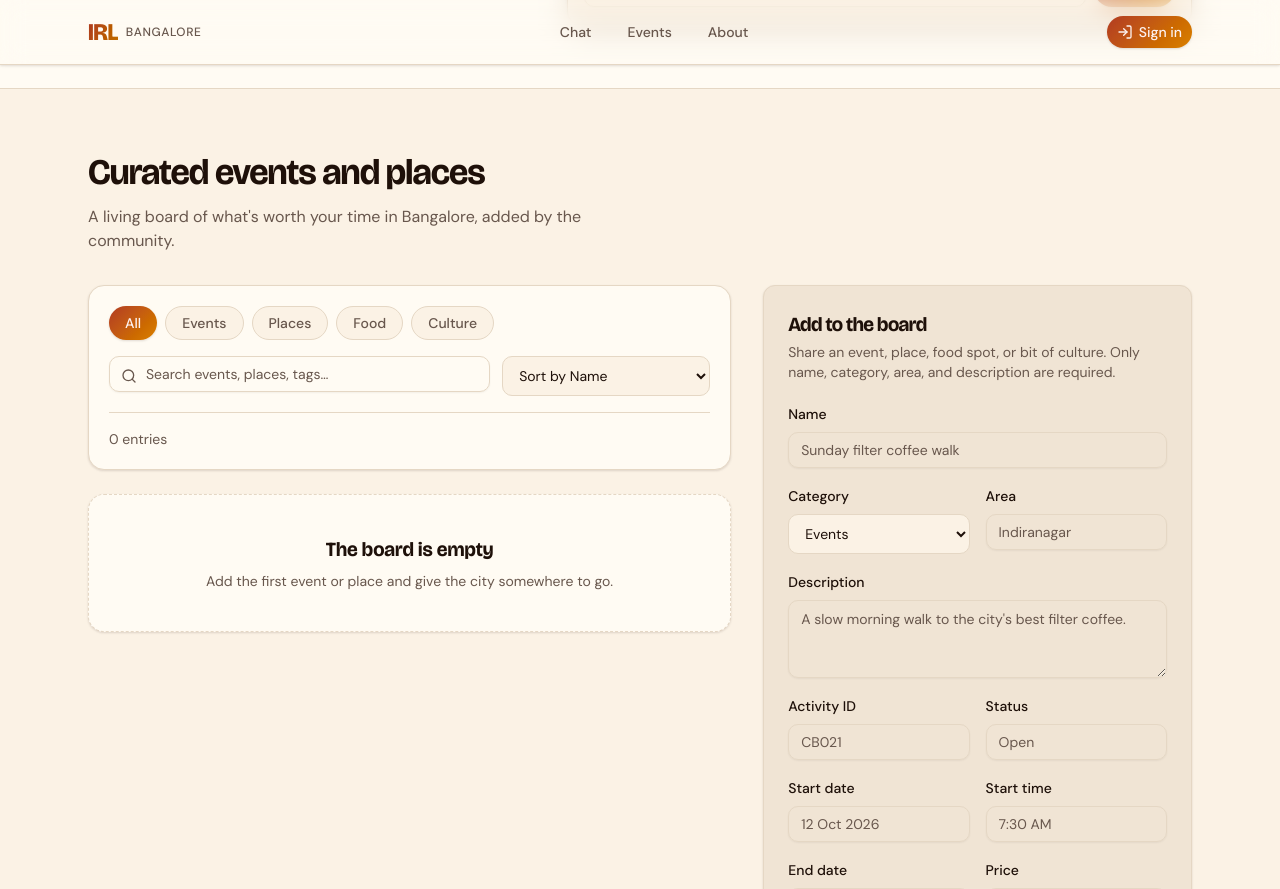
Test: IRL events board › keeps the submit button disabled until the required fields are filled
The image size is (1280, 889).
(page scrolled)
Type "Only a title" into the field labelled "Name" at [978, 450], box x1=788 y1=432 x2=1167 y2=468
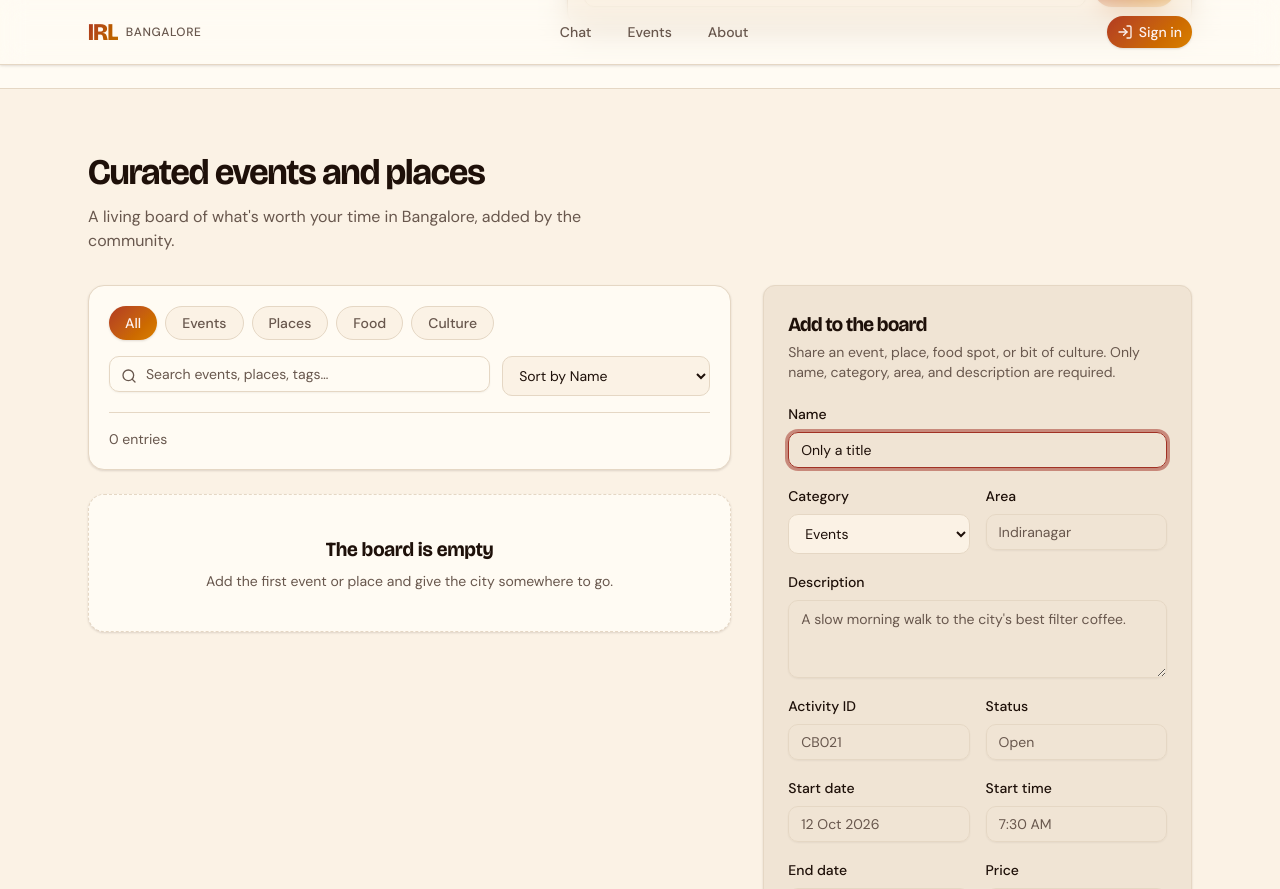
Type "Jayanagar" into the field labelled "Area" at [1076, 532], box x1=986 y1=514 x2=1167 y2=550
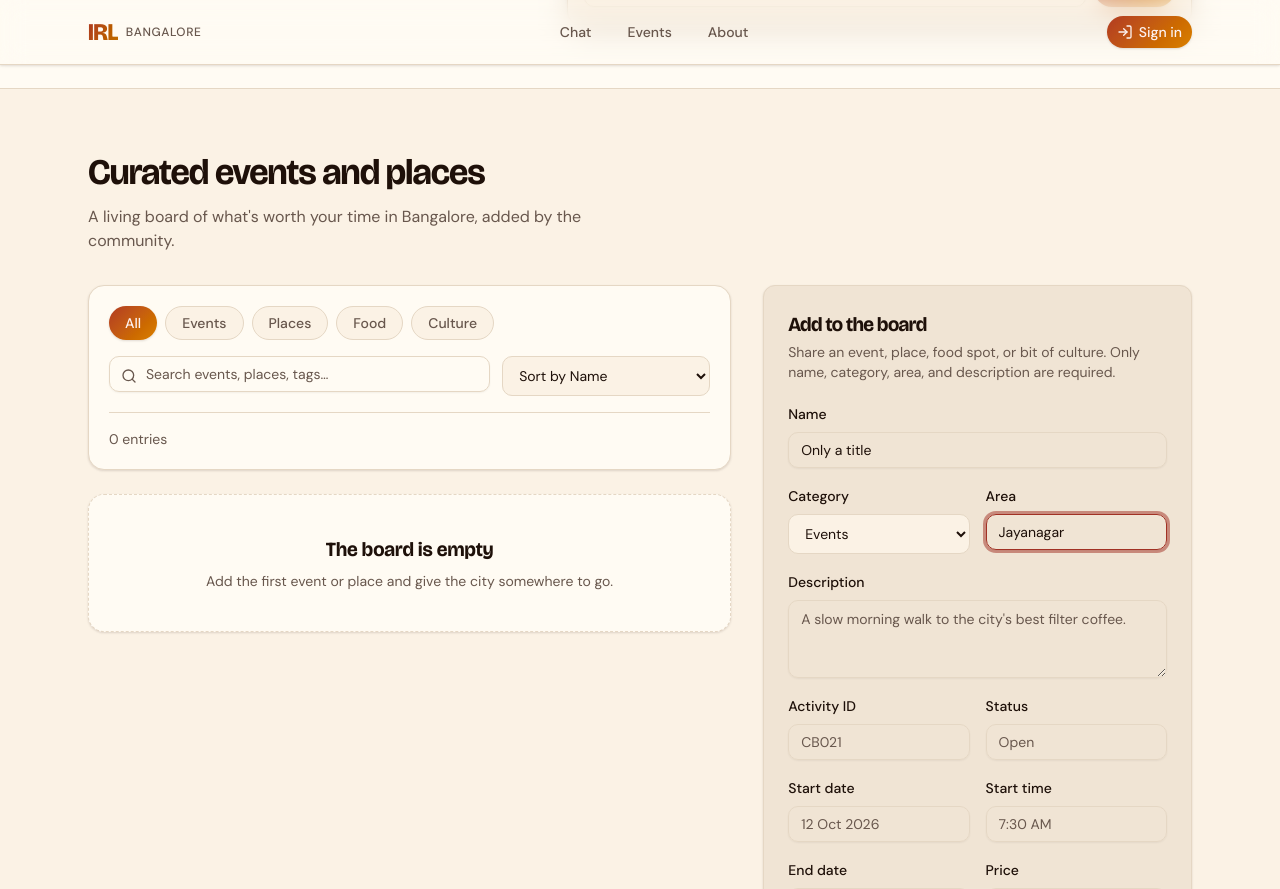
Type "Now complete" into the text box labelled "Description" at [978, 639], box x1=788 y1=600 x2=1167 y2=678
(page scrolled)
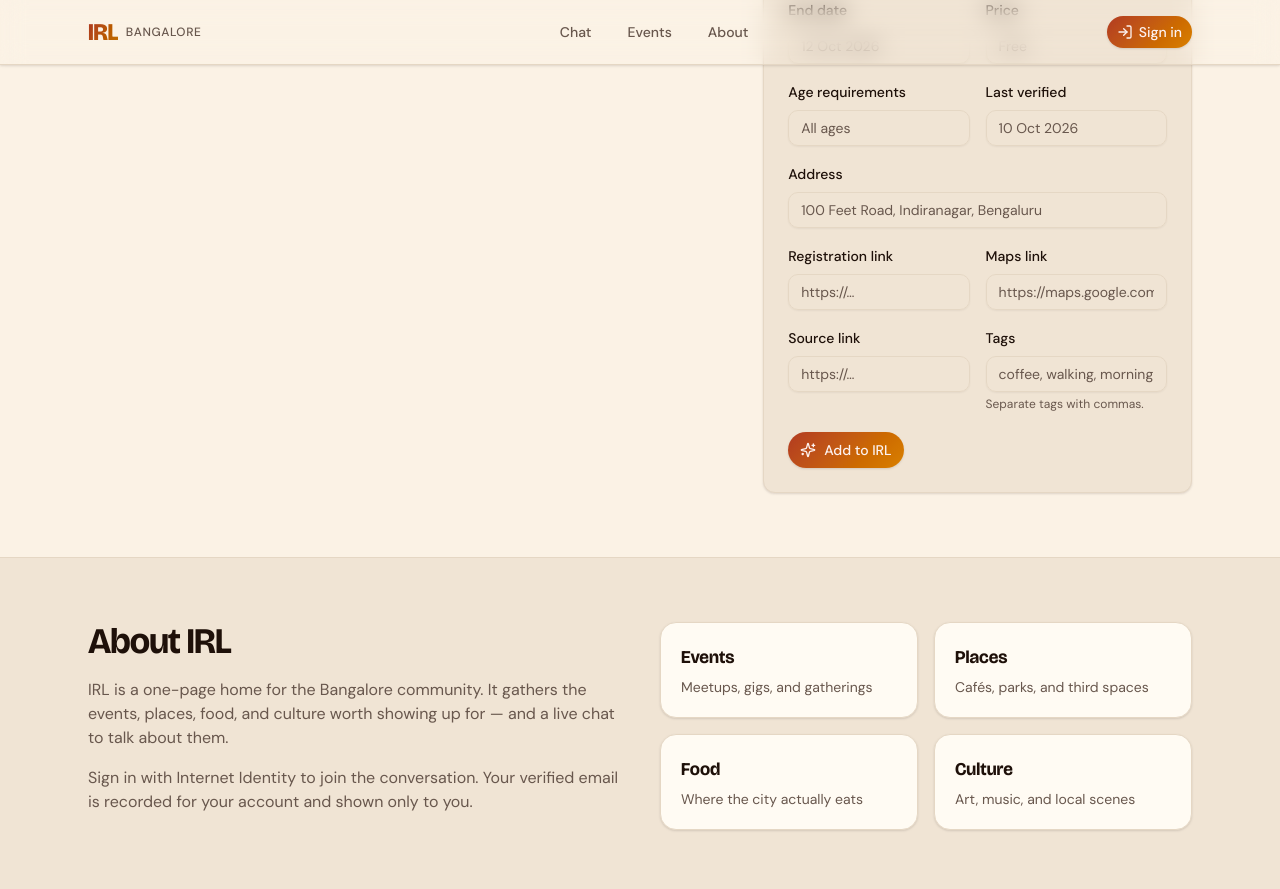
Result: the button "Add to IRL" is enabled at x1=788 y1=432 x2=904 y2=468
